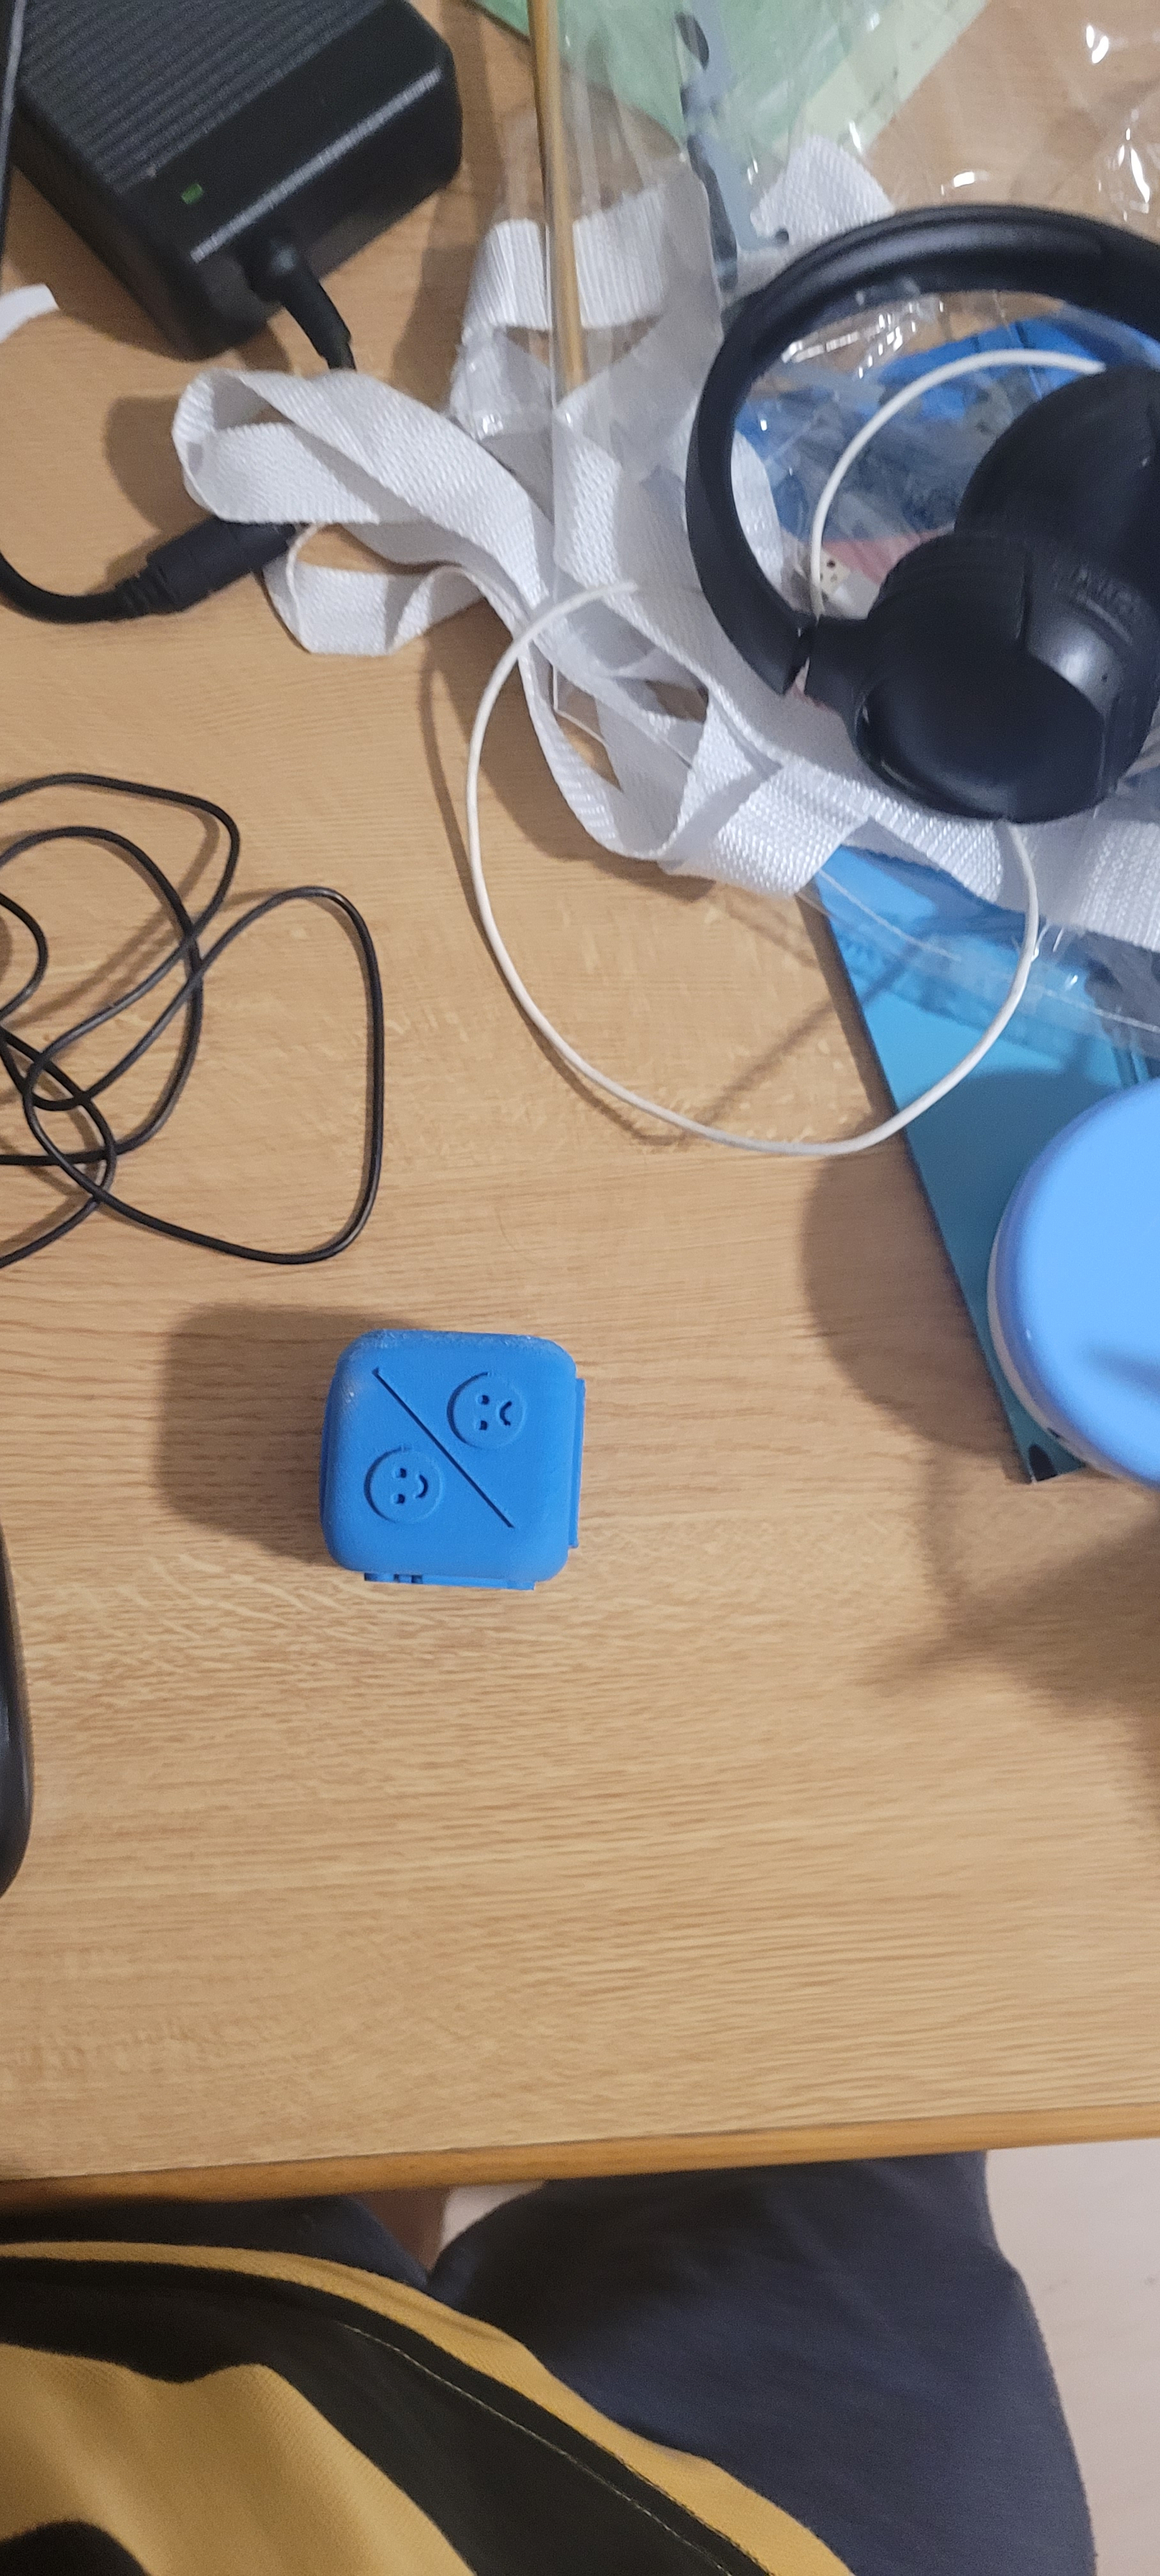Like/Dislike: (337, 1321, 575, 1556)
